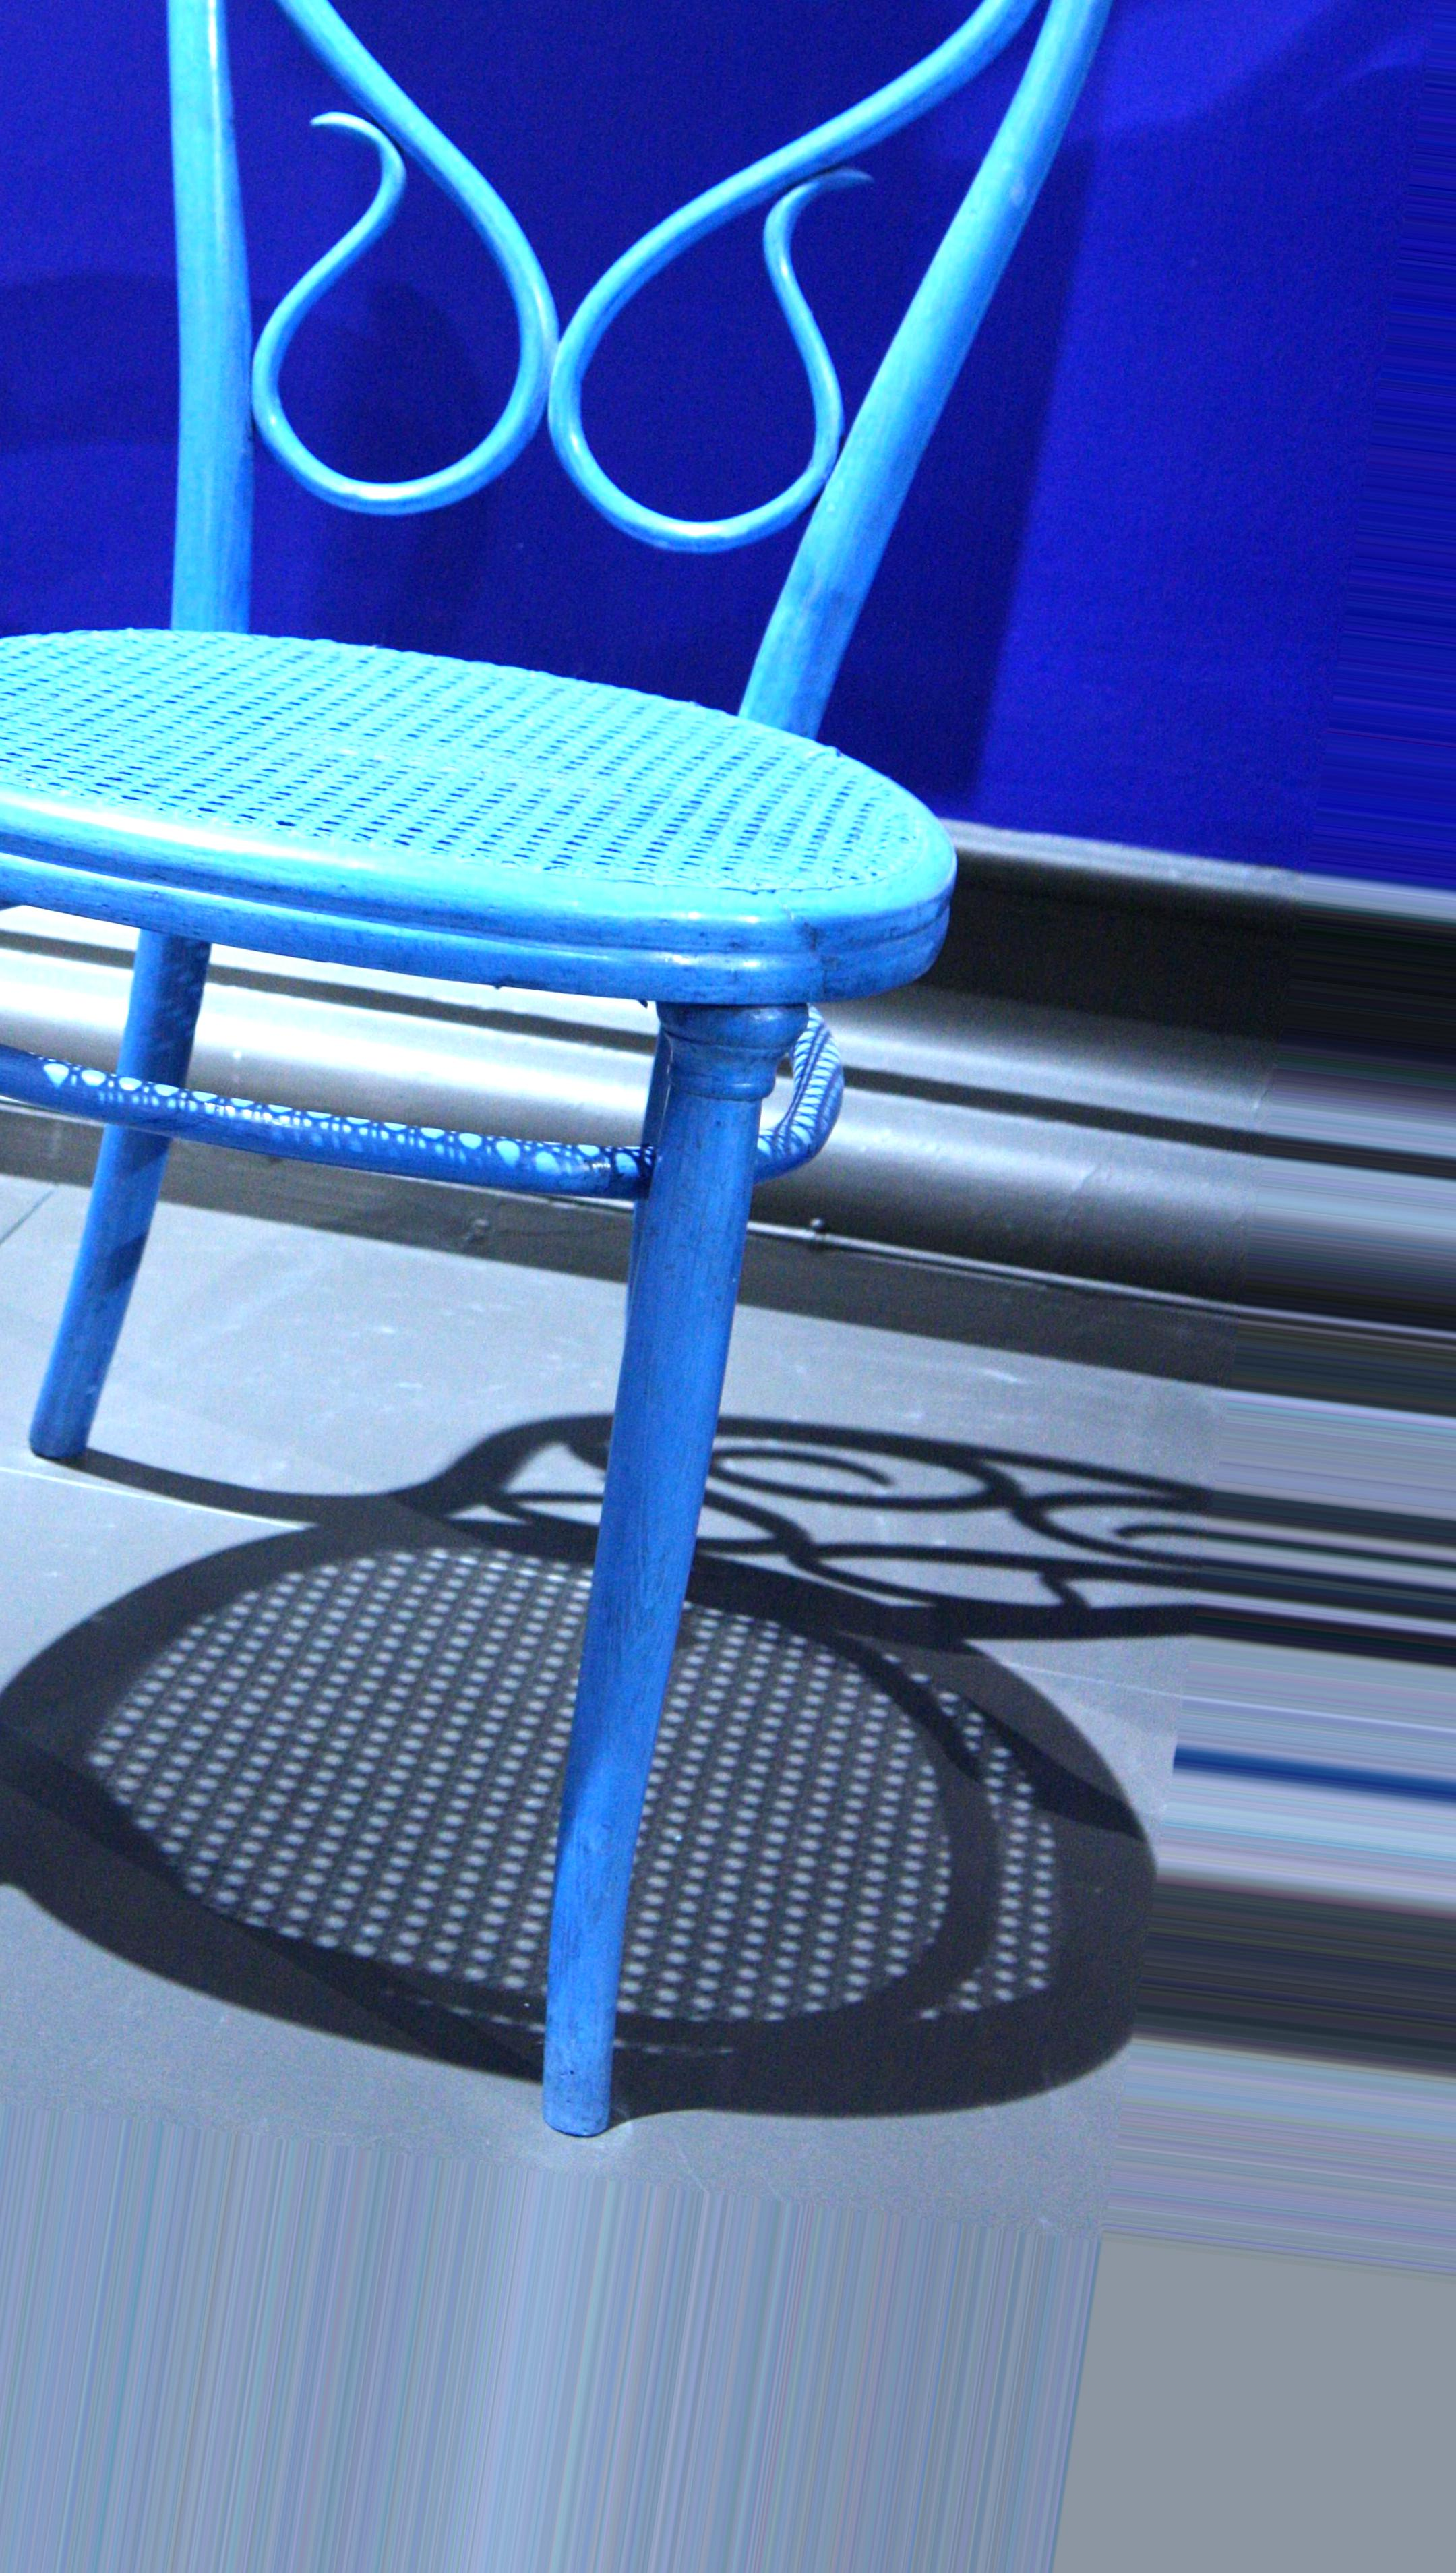chair: (0, 0, 1129, 2145)
